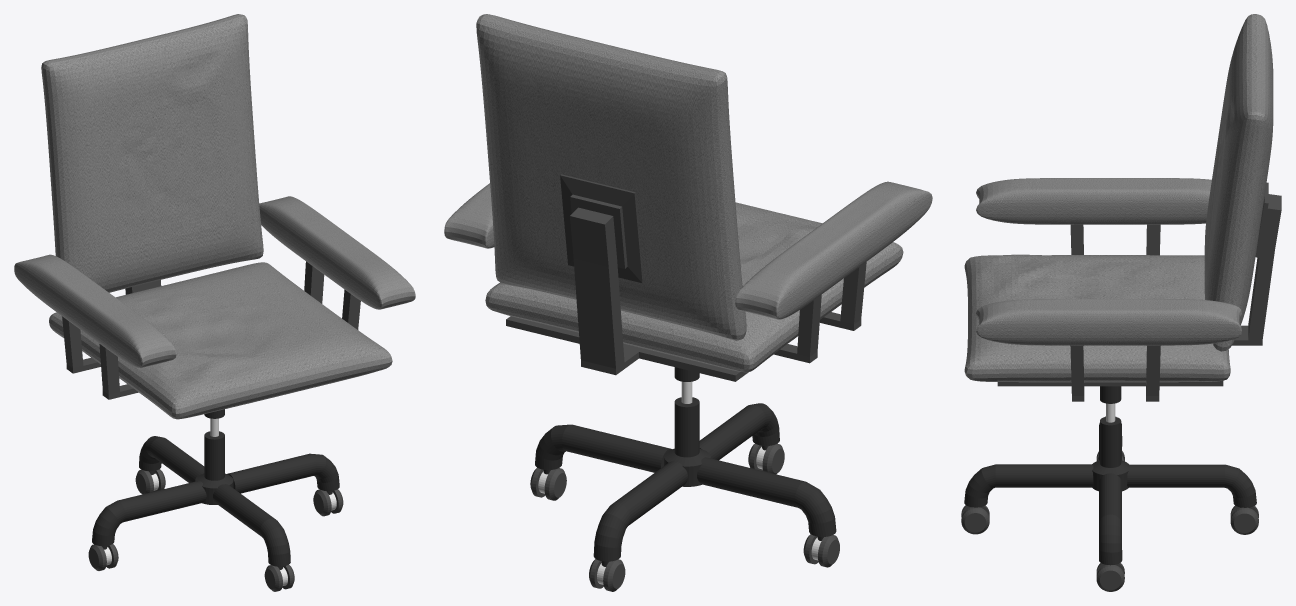
Rendered from chair-00001.glb.
3 renders of one model, left to right at view 1: azimuth 30°, elevation 25°; view 2: azimuth 150°, elevation 25°; view 3: azimuth 270°, elevation 25°, orthographic. The views are drawn at different scales.
Parts seen in each view (by area): view 1: Cube.015; view 2: Cube.015; view 3: Cube.015.
Boxes of the visible parts, bbox=[...] form: Cube.015: bbox=[14, 14, 415, 591]; Cube.015: bbox=[444, 14, 932, 591]; Cube.015: bbox=[961, 14, 1281, 591].
Bounding box in the file's own units: 0.6463 × 1.02 × 0.63.
4 materials, 1 textured.
